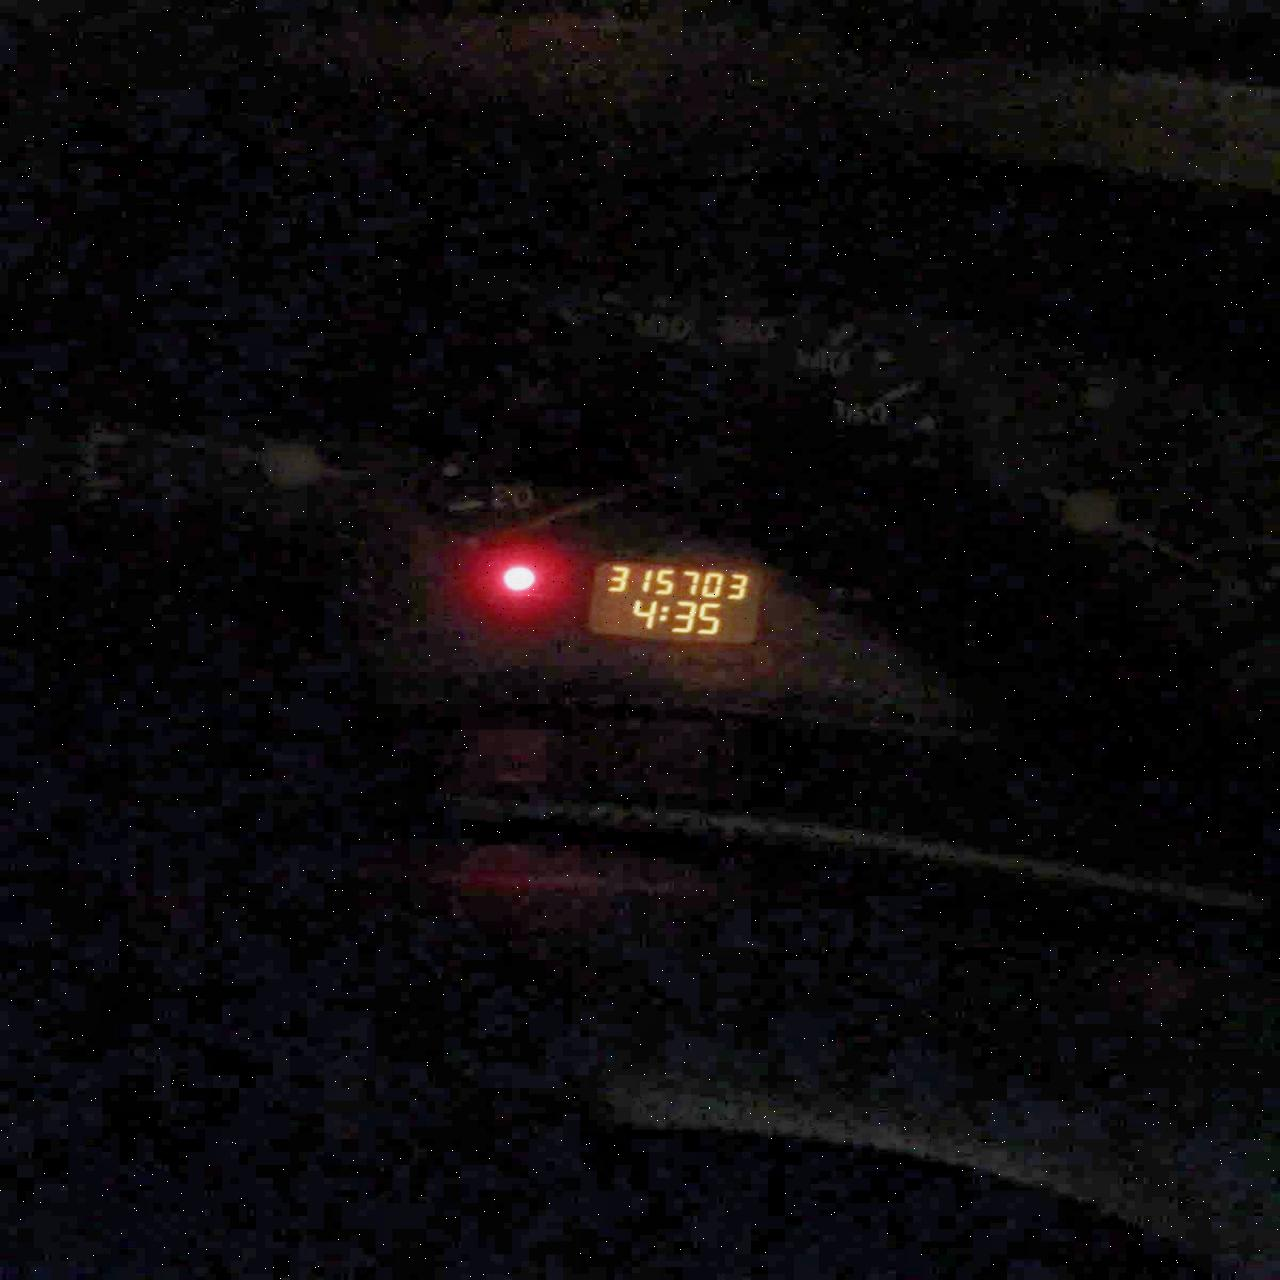0: (700, 571, 723, 599)
1: (640, 568, 653, 592)
3: (669, 600, 696, 633), (606, 566, 629, 592), (727, 573, 748, 599)
4: (631, 598, 656, 628)
5: (696, 601, 721, 634), (654, 568, 674, 594)
7: (681, 571, 699, 594)
X: (659, 605, 669, 621)
odometer: (584, 558, 764, 647)
